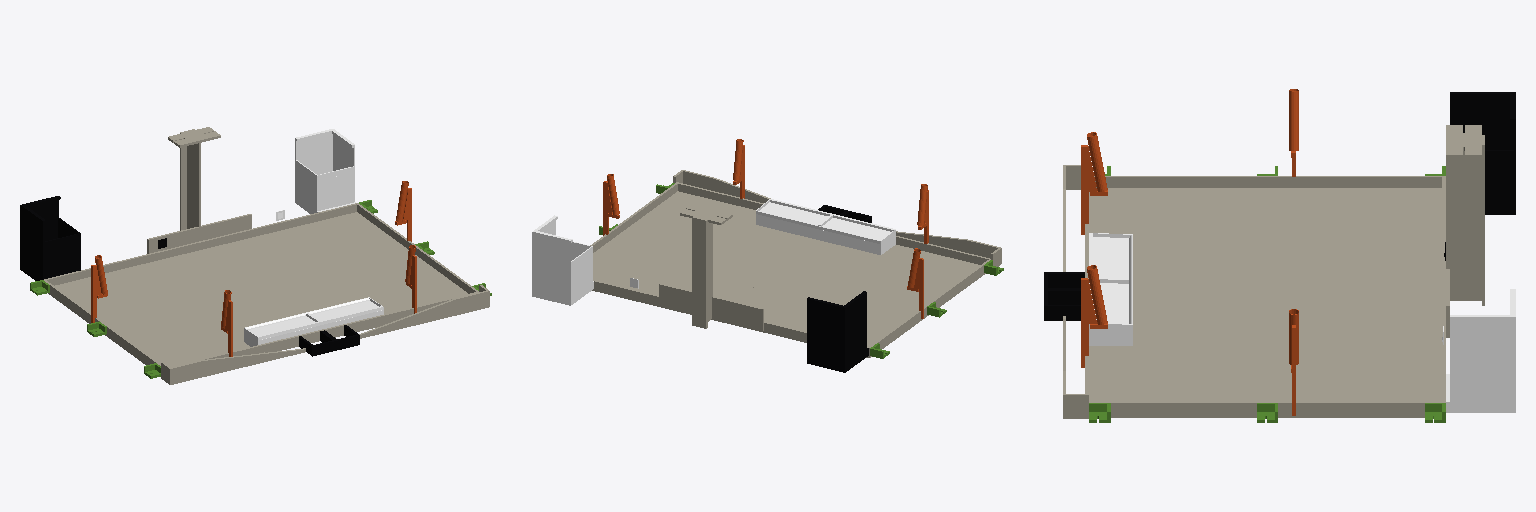
The robot description file, URDF, robot "RobotCities-2018":
<robot
  name="RobotCities-2018">
  <link
    name="base_link">
    <inertial>
      <origin
        xyz="1.522 0.0388426480905344 0.969203571747516"
        rpy="0 0 0" />
      <mass
        value="174.384615138785" />
      <inertia
        ixx="32.2223910185051"
        ixy="-8.43769498715119E-15"
        ixz="-7.54951656745106E-15"
        iyy="132.291426227518"
        iyz="7.8503426298791"
        izz="110.05690021114" />
    </inertial>
    <visual>
      <origin
        xyz="0 0 0"
        rpy="0 0 0" />
      <geometry>
        <mesh
          filename="package://RobotCities-2018/meshes/base_link.STL" />
      </geometry>
      <material
        name="">
        <color
          rgba="0.709803921568627 0.690196078431373 0.631372549019608 1" />
      </material>
    </visual>
    <collision>
      <origin
        xyz="0 0 0"
        rpy="0 0 0" />
      <geometry>
        <mesh
          filename="package://RobotCities-2018/meshes/base_link.STL" />
      </geometry>
    </collision>
  </link>
  <link
    name="slide_Link">
    <inertial>
      <origin
        xyz="1.0012 -0.025918 1.522"
        rpy="0 0 0" />
      <mass
        value="3.3001" />
      <inertia
        ixx="8.1621"
        ixy="-2.1845E-17"
        ixz="1.3982E-15"
        iyy="10.148"
        iyz="9.5241E-16"
        izz="1.9856" />
    </inertial>
    <visual>
      <origin
        xyz="0 0 0"
        rpy="0 0 0" />
      <geometry>
        <mesh
          filename="package://RobotCities-2018/meshes/slide_Link.STL" />
      </geometry>
      <material
        name="">
        <color
          rgba="0.38039 0.6 0.23137 1" />
      </material>
    </visual>
    <collision>
      <origin
        xyz="0 0 0"
        rpy="0 0 0" />
      <geometry>
        <mesh
          filename="package://RobotCities-2018/meshes/slide_Link.STL" />
      </geometry>
    </collision>
  </link>
  <joint
    name="1"
    type="fixed">
    <origin
      xyz="0 0 0"
      rpy="-1.5708 -6.123E-17 -1.5708" />
    <parent
      link="base_link" />
    <child
      link="slide_Link" />
    <axis
      xyz="0 0 0" />
  </joint>
  <link
    name="green_Link">
    <inertial>
      <origin
        xyz="0.46357 0.18122 0.70359"
        rpy="0 0 0" />
      <mass
        value="12.017" />
      <inertia
        ixx="11.959"
        ixy="0.56263"
        ixz="-6.5752"
        iyy="15.547"
        iyz="1.0177"
        izz="3.8842" />
    </inertial>
    <visual>
      <origin
        xyz="0 0 0"
        rpy="0 0 0" />
      <geometry>
        <mesh
          filename="package://RobotCities-2018/meshes/green_Link.STL" />
      </geometry>
      <material
        name="">
        <color
          rgba="0.054902 0.054902 0.062745 1" />
      </material>
    </visual>
    <collision>
      <origin
        xyz="0 0 0"
        rpy="0 0 0" />
      <geometry>
        <mesh
          filename="package://RobotCities-2018/meshes/green_Link.STL" />
      </geometry>
    </collision>
  </link>
  <joint
    name="2"
    type="fixed">
    <origin
      xyz="0.012 0.392 0"
      rpy="1.5708 0 0" />
    <parent
      link="base_link" />
    <child
      link="green_Link" />
    <axis
      xyz="0 0 0" />
  </joint>
  <link
    name="red_Link">
    <inertial>
      <origin
        xyz="-0.81925 0.076446 0.41566"
        rpy="0 0 0" />
      <mass
        value="18.339" />
      <inertia
        ixx="9.3211"
        ixy="-1.4888"
        ixz="-12.959"
        iyy="29.72"
        iyz="-0.93701"
        izz="20.753" />
    </inertial>
    <visual>
      <origin
        xyz="0 0 0"
        rpy="0 0 0" />
      <geometry>
        <mesh
          filename="package://RobotCities-2018/meshes/red_Link.STL" />
      </geometry>
      <material
        name="">
        <color
          rgba="1 1 1 1" />
      </material>
    </visual>
    <collision>
      <origin
        xyz="0 0 0"
        rpy="0 0 0" />
      <geometry>
        <mesh
          filename="package://RobotCities-2018/meshes/red_Link.STL" />
      </geometry>
    </collision>
  </link>
  <joint
    name="3"
    type="fixed">
    <origin
      xyz="1.792 1E-05 0.075"
      rpy="1.5708 6.123E-17 1.5708" />
    <parent
      link="base_link" />
    <child
      link="red_Link" />
    <axis
      xyz="0 0 0" />
  </joint>
  <link
    name="t_Link">
    <inertial>
      <origin
        xyz="1.544 0.59293 -0.31922"
        rpy="0 0 0" />
      <mass
        value="6.0503" />
      <inertia
        ixx="2.0656"
        ixy="8.1879E-16"
        ixz="3.1919E-16"
        iyy="9.2547"
        iyz="-0.0022626"
        izz="11.291" />
    </inertial>
    <visual>
      <origin
        xyz="0 0 0"
        rpy="0 0 0" />
      <geometry>
        <mesh
          filename="package://RobotCities-2018/meshes/t_Link.STL" />
      </geometry>
      <material
        name="">
        <color
          rgba="0.81569 0.36471 0.15686 1" />
      </material>
    </visual>
    <collision>
      <origin
        xyz="0 0 0"
        rpy="0 0 0" />
      <geometry>
        <mesh
          filename="package://RobotCities-2018/meshes/t_Link.STL" />
      </geometry>
    </collision>
  </link>
  <joint
    name="4"
    type="fixed">
    <origin
      xyz="-0.022 -0.851 0"
      rpy="3.1416 0 0" />
    <parent
      link="base_link" />
    <child
      link="t_Link" />
    <axis
      xyz="0 0 0" />
  </joint>
</robot>

--- What the picture shows (computed from the rendered views, not written in the file) ---
The picture shows the robot from 3 angles, left to right: view 1: azimuth 30°, elevation 25°; view 2: azimuth 150°, elevation 25°; view 3: azimuth 270°, elevation 25°; orthographic projection.
Model RobotCities-2018 with 5 links and 4 joints (4 fixed), rooted at base_link, posed every joint at zero.
Visible links, largest first — view 1: base_link, red_Link, green_Link, t_Link, slide_Link; view 2: base_link, red_Link, green_Link, t_Link, slide_Link; view 3: base_link, red_Link, green_Link, t_Link, slide_Link.
Link boxes in pixels (x1,y1,x2,y2): base_link: [44, 127, 489, 384]; red_Link: [244, 129, 383, 346]; green_Link: [20, 196, 359, 356]; t_Link: [91, 181, 416, 356]; slide_Link: [30, 200, 491, 378]; base_link: [590, 170, 1001, 357]; red_Link: [532, 199, 895, 305]; green_Link: [807, 205, 871, 372]; t_Link: [603, 139, 928, 318]; slide_Link: [599, 183, 1003, 358]; base_link: [1063, 125, 1484, 418]; red_Link: [1089, 233, 1515, 412]; green_Link: [1044, 92, 1515, 320]; t_Link: [1081, 89, 1298, 415]; slide_Link: [1089, 166, 1445, 422].
Bounding box of the posed robot: 3.29 × 2.67 × 1.02 m (x, y, z).
5 mesh visuals loaded from 5 distinct referenced files (5 binary STL).